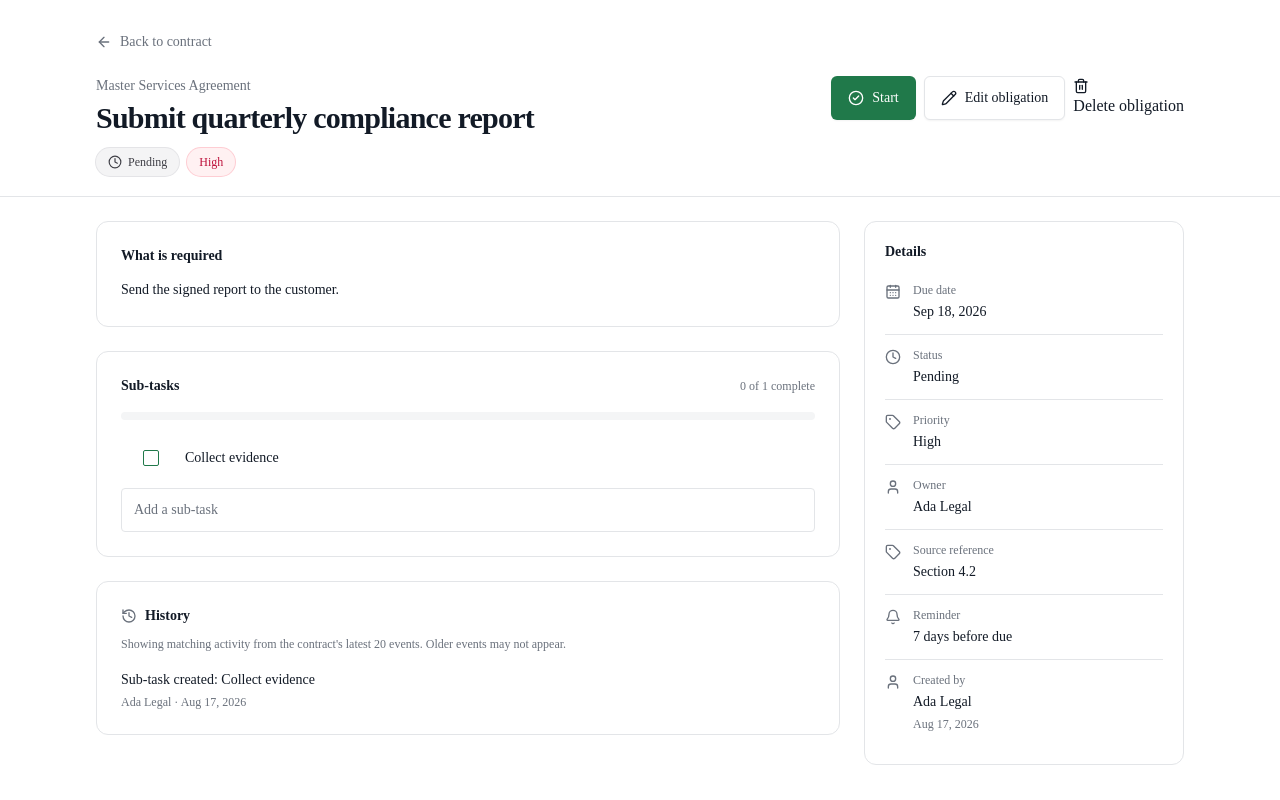
Test case: obligation detail responsive action surface › opens a keyboard-native, labelled obligation editor
expect the heading "Submit quarterly compliance report" is shown: met, box [96,100,534,136]
Click the button "Edit obligation".
click(995, 98)  # box [924,76,1065,120]
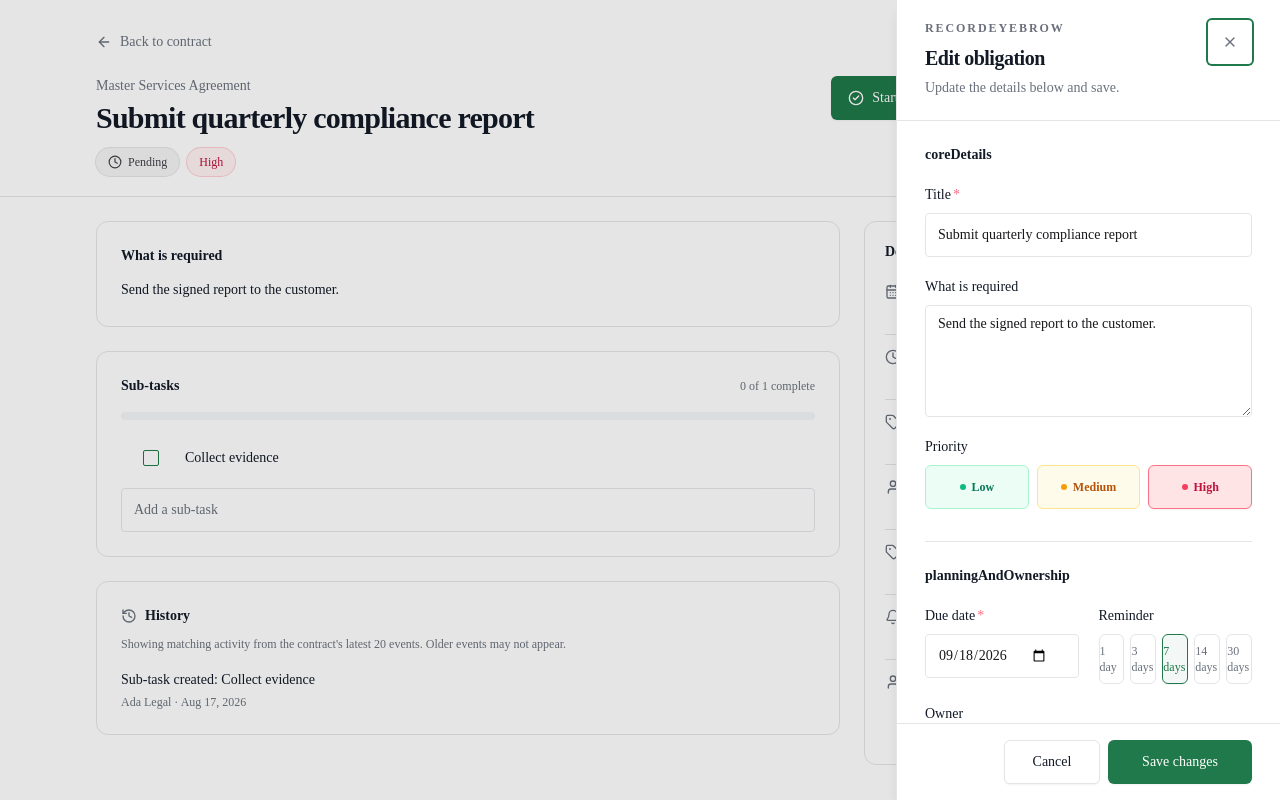
expect the dialog is shown: met, box [896,0,1279,799]
expect the element named "Priority" is shown: met, box [925,465,1252,509]
expect the radio button labelled "High" is checked: met, box [1148,465,1252,509]
